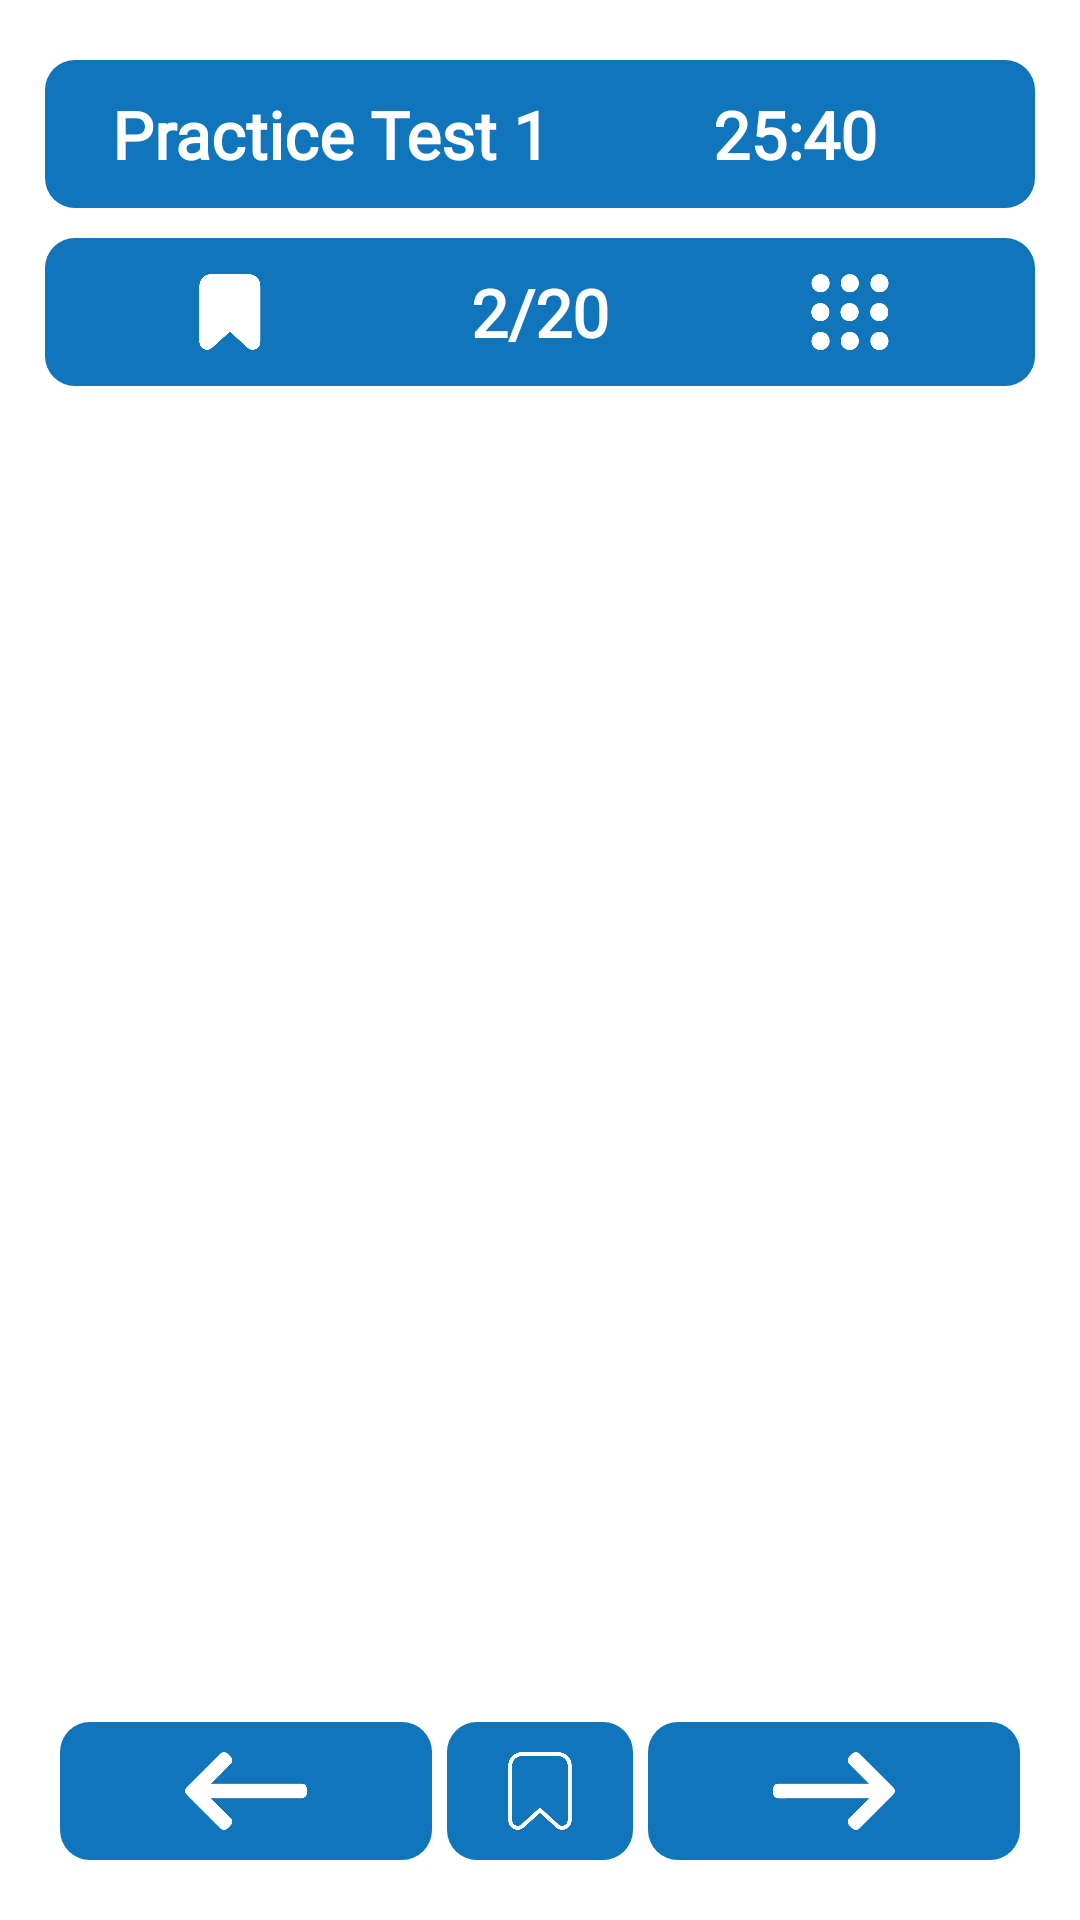

Screen size 1080*1920. Icon name, then its center in pixels as (x,y):
bookmark: (230,312)
bookmark blank: (540,1791)
dot menu: (850,312)
